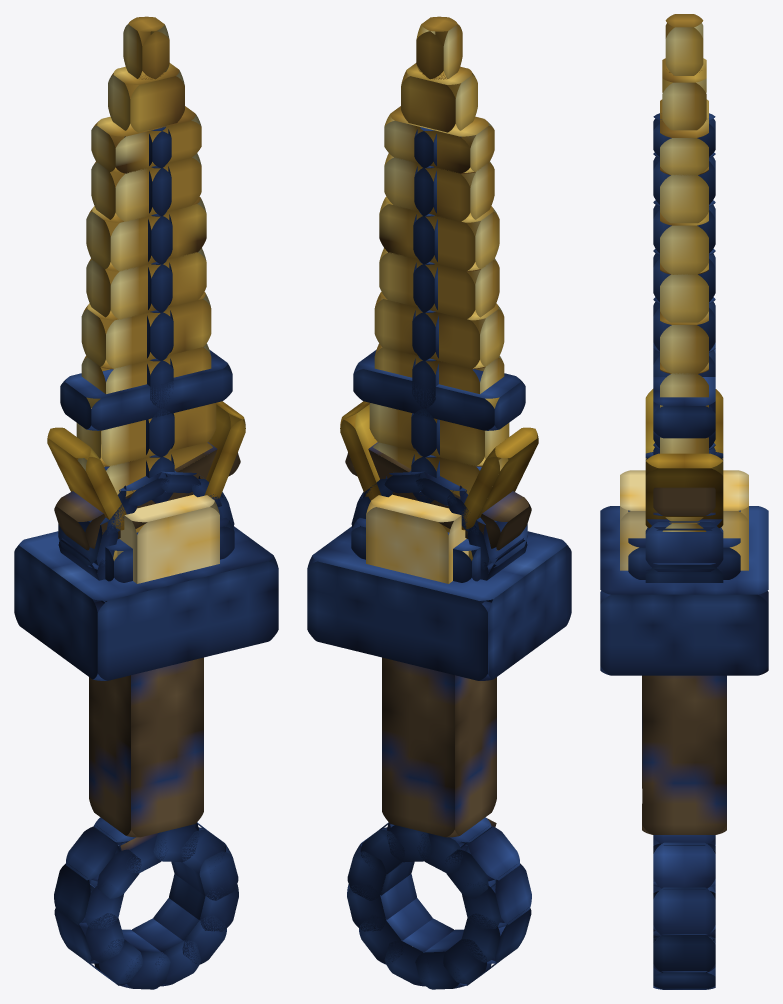
File: scarab_dagger.obj
3 views of the same model, side by side, from view 1: azimuth 30°, elevation 25°; view 2: azimuth 150°, elevation 25°; view 3: azimuth 270°, elevation 25° (orthographic).
Visible parts, largest first — view 1: lit, fire; view 2: lit, fire; view 3: lit, fire.
Boxes of the visible parts, left/top/right/bottom form: lit: left=14, top=16, right=278, bottom=989; fire: left=117, top=494, right=219, bottom=583; lit: left=307, top=16, right=571, bottom=989; fire: left=366, top=494, right=468, bottom=583; lit: left=600, top=14, right=768, bottom=989; fire: left=620, top=470, right=748, bottom=570.
Bounding box in the file's own units: 0.2948 × 1.49 × 0.2358.
